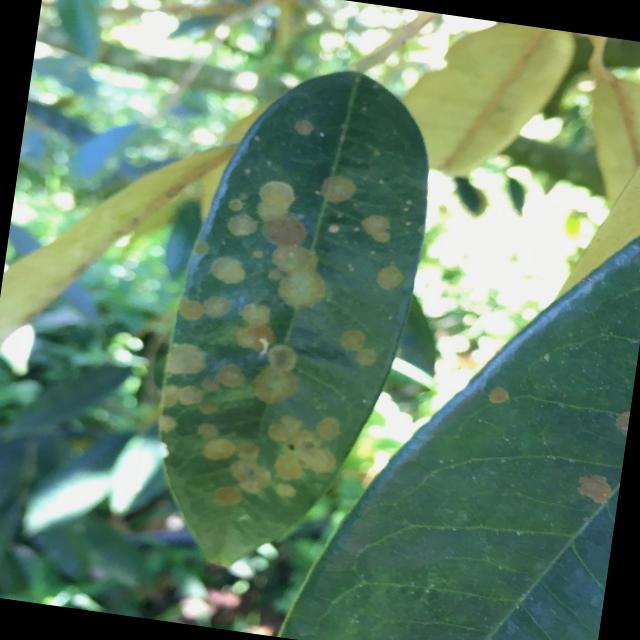Algal Leaf Spot: (131, 42, 453, 603)
